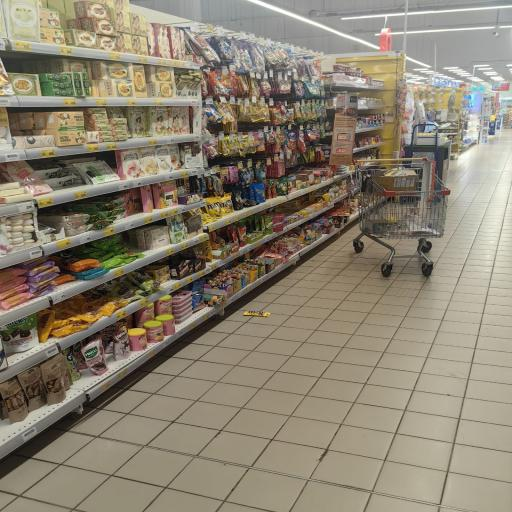shopping_cart: (352, 156, 452, 278)
